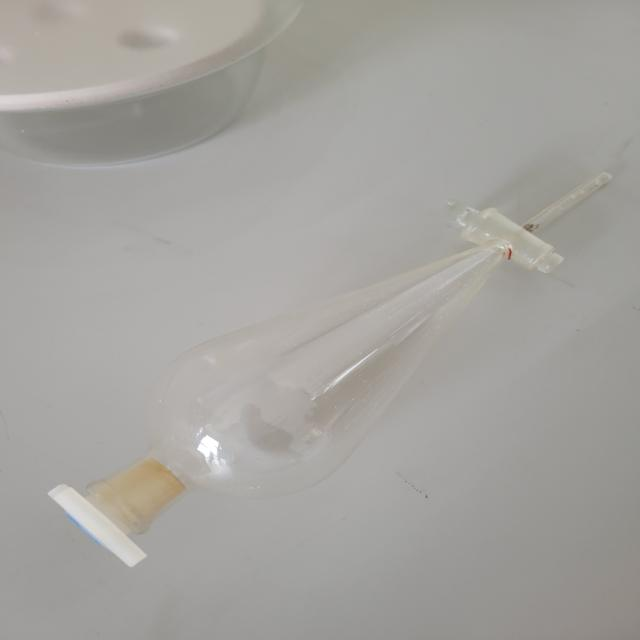Separating_Funnel: (21, 186, 640, 580)
